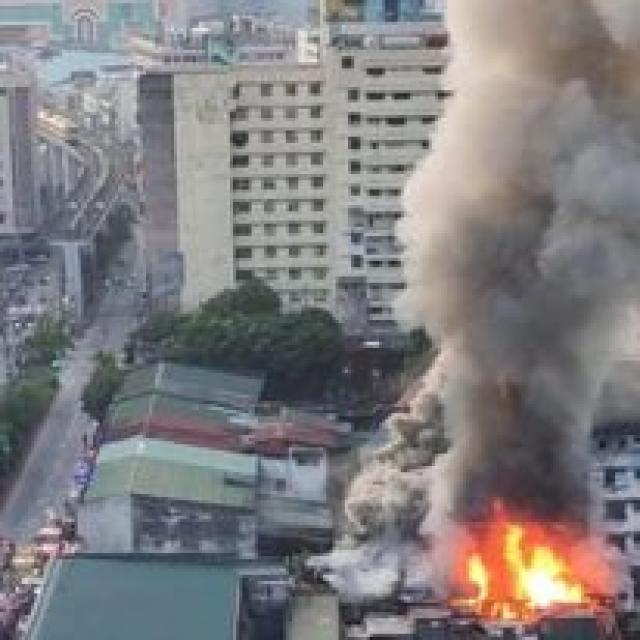Fire: (454, 518, 599, 606)
Smoke: (444, 12, 640, 509), (364, 426, 444, 577)
